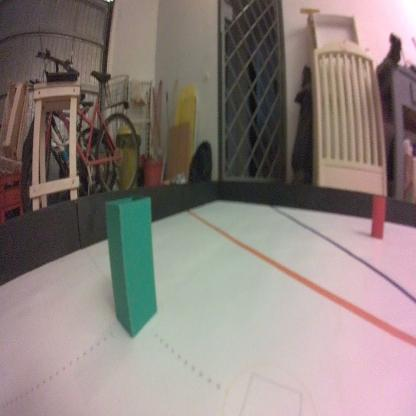green: (105, 194, 159, 344)
red: (369, 192, 387, 241)
